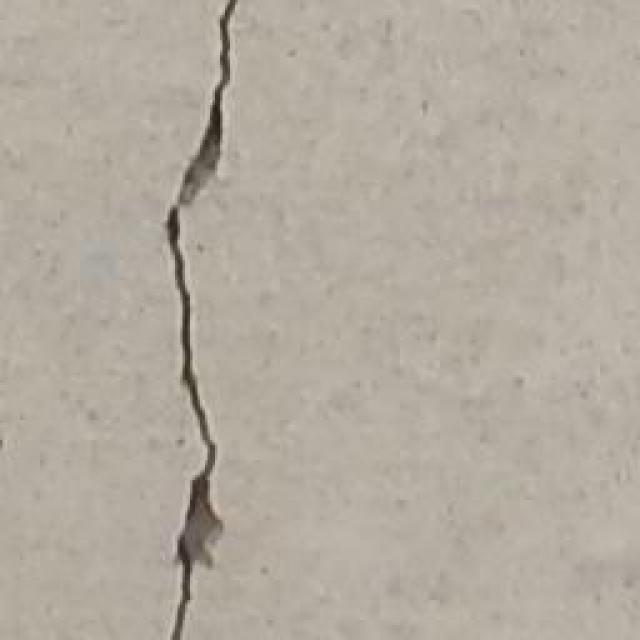concrete-crack: (155, 0, 242, 640)
